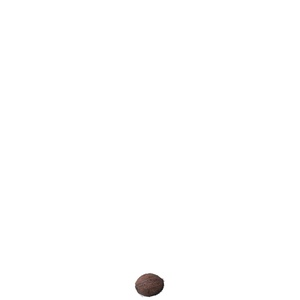coco: (136, 274, 164, 296)
